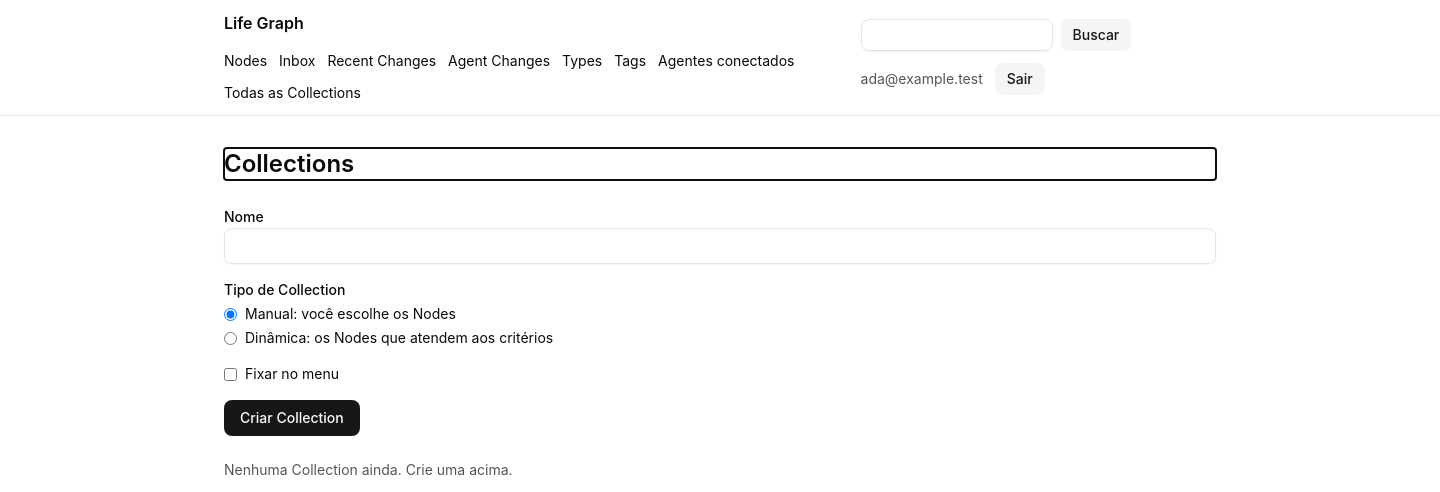
Scenario: collections page › creates a manual Collection and opens it
Type "Quero ler" into the field labelled "Nome" at (720, 246), box [224,228,1216,264]
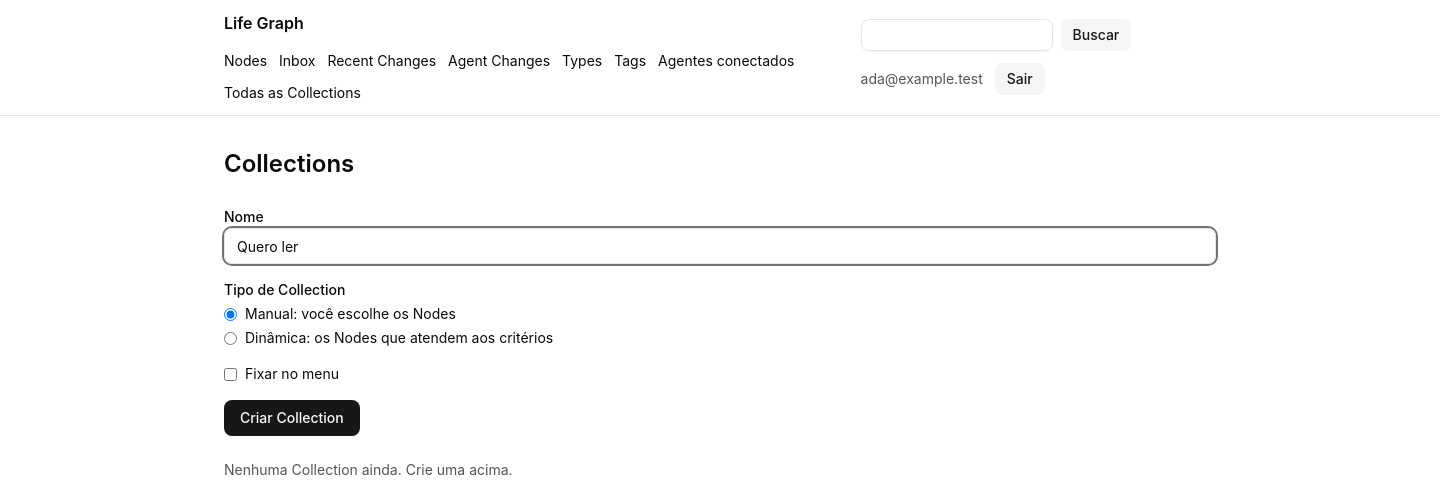
Click the button "Criar Collection" at (292, 418), box [224,400,360,436]
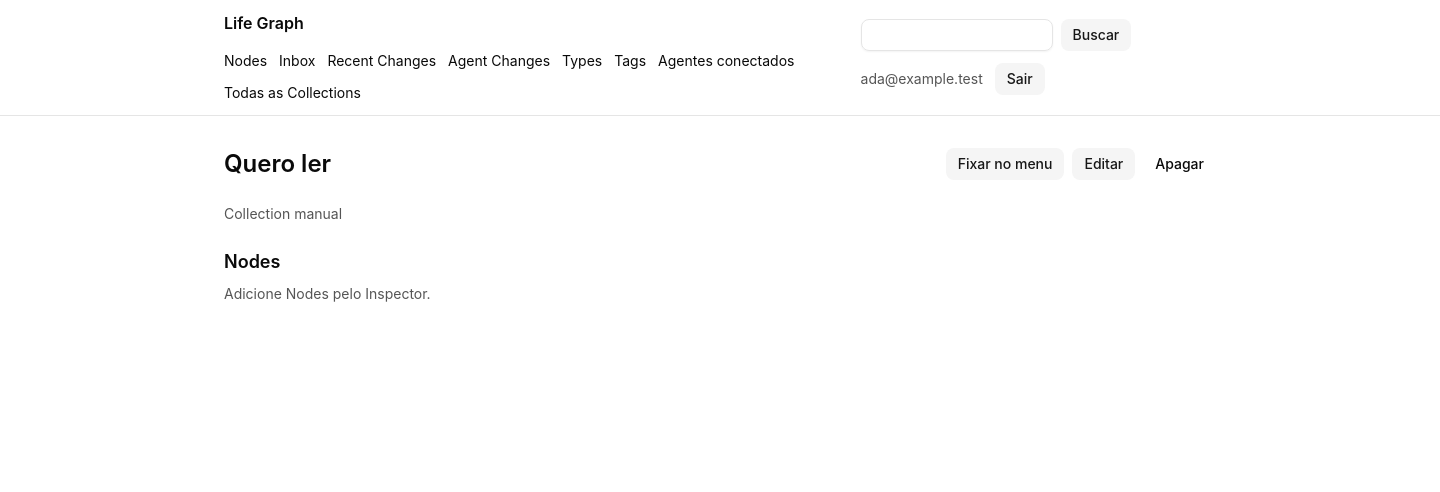
Check: the heading "Quero ler" is shown, box [224,148,331,180]
